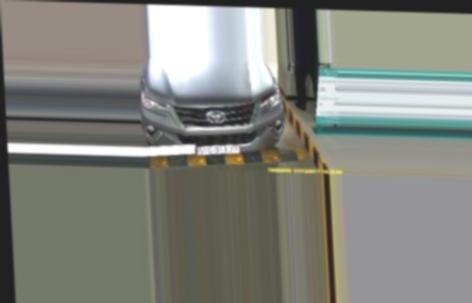License_Plate: (196, 141, 243, 157)
